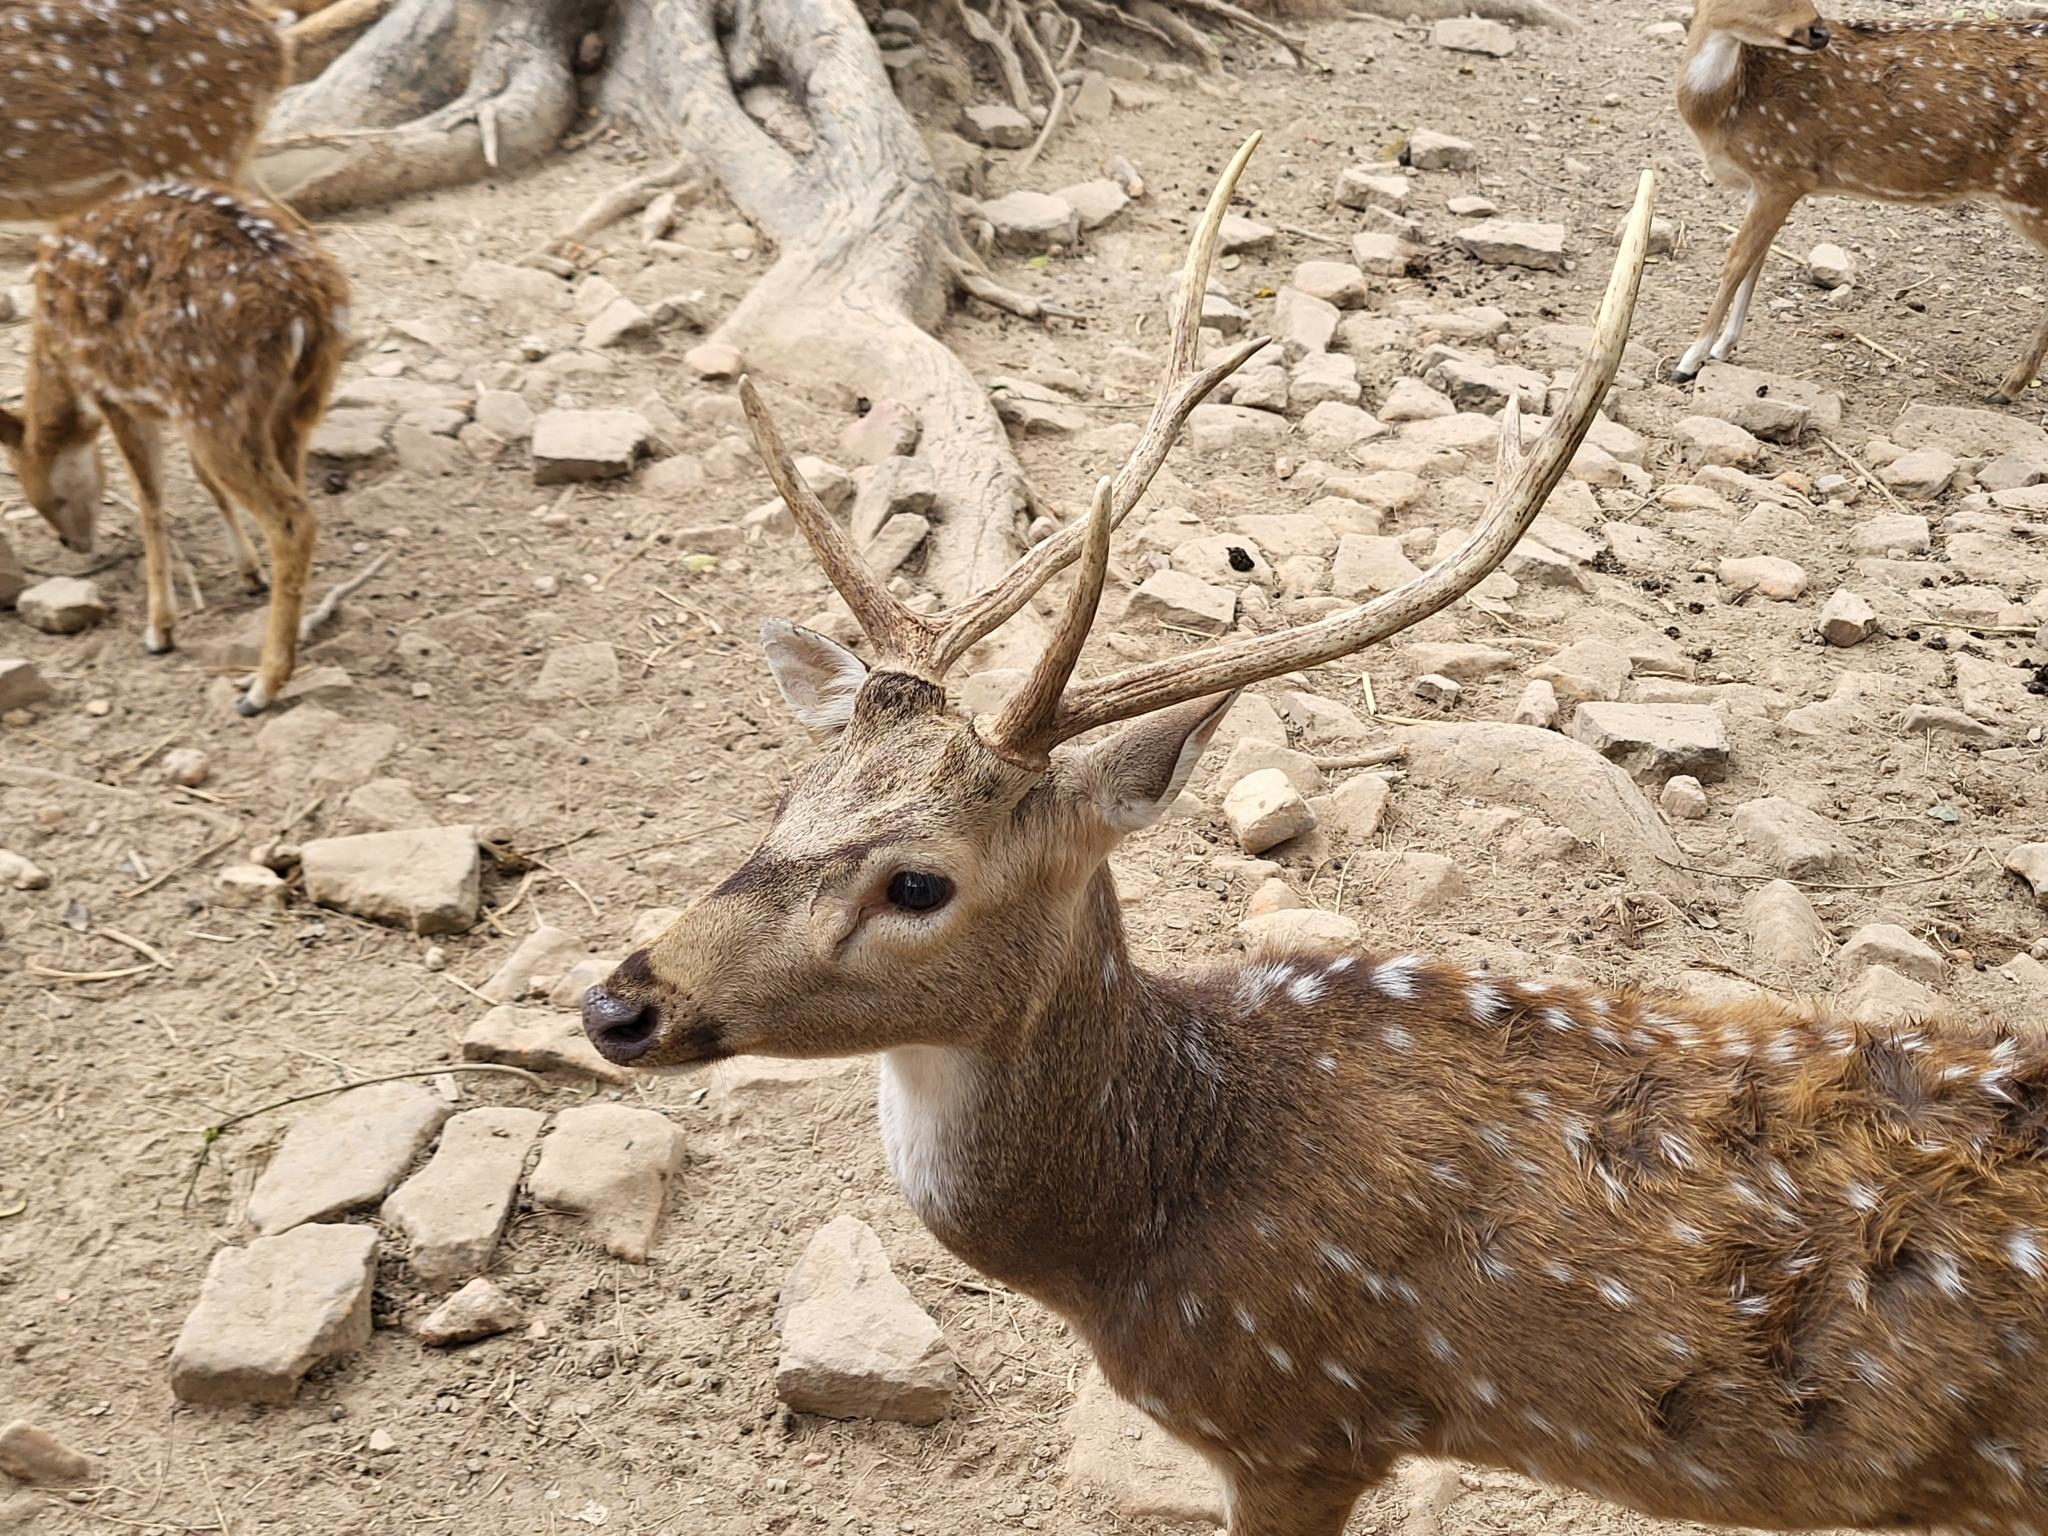Deer: (582, 177, 2046, 1531), (15, 181, 348, 715)
